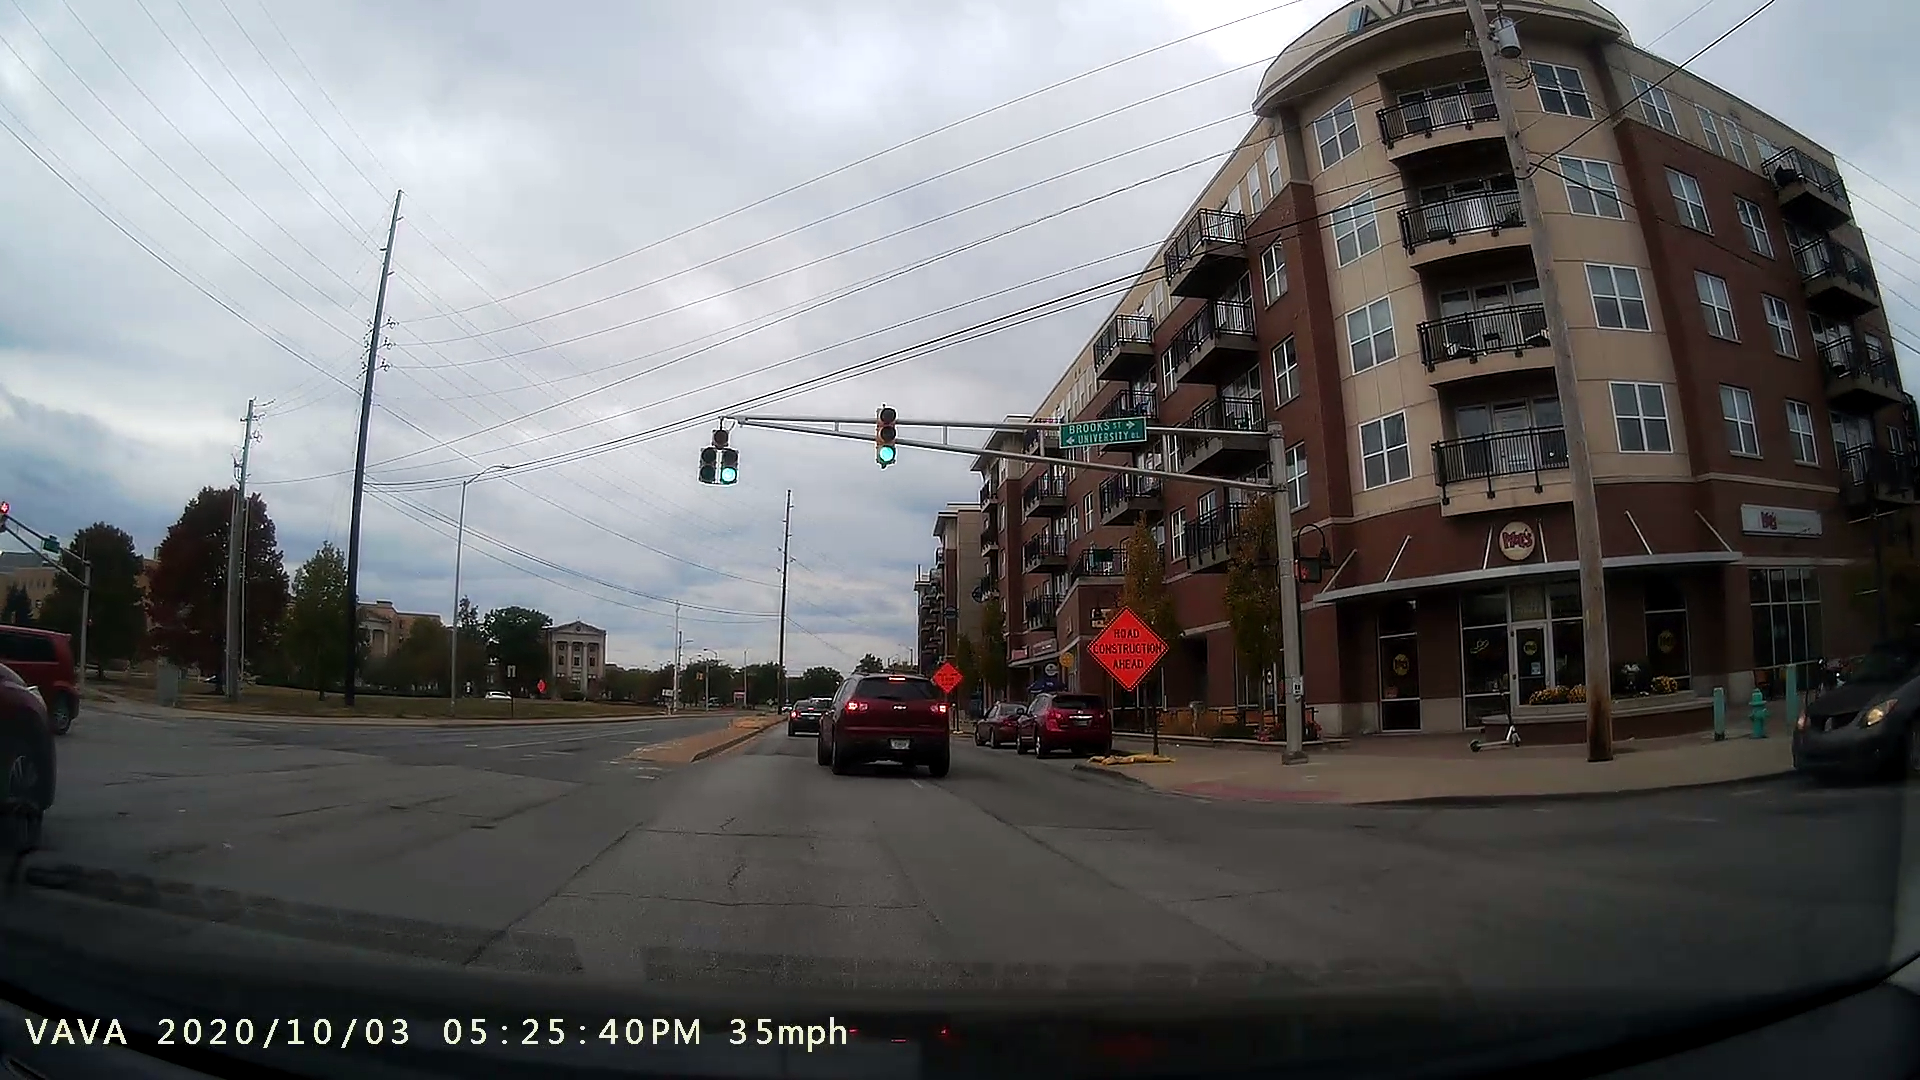ttcs_road_const_ahead: (1073, 593, 1196, 770)
